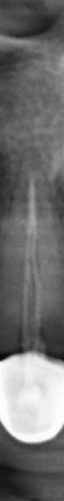fracture: (24, 184, 37, 236)
